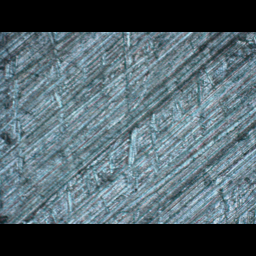d: (119, 109, 162, 177)
